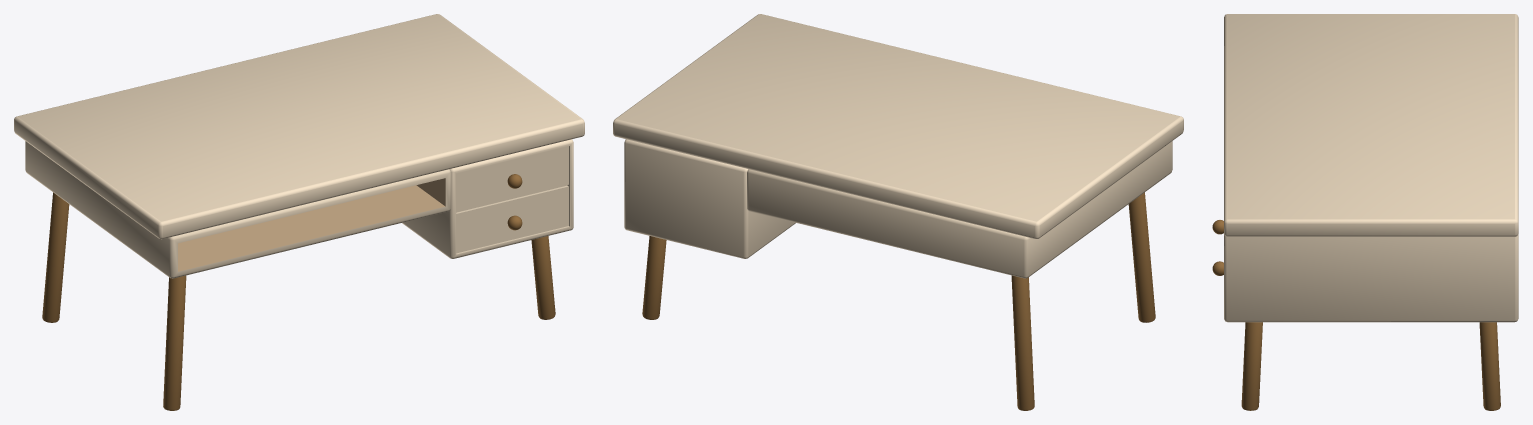
Rendered from Table.fbx.
3 renders of one model, left to right at view 1: azimuth 30°, elevation 25°; view 2: azimuth 150°, elevation 25°; view 3: azimuth 270°, elevation 25°, orthographic.
Visible parts, largest first — view 1: Table, Table.001, Table.002, Table.003, Table.004, Table.005; view 2: Table, Table.001, Table.002, Table.004, Table.003, Table.006; view 3: Table, Table.002, Table.006, Table.005.
Part boxes in pixels (box(x1,y1,x2,y2)): Table: box(14, 14, 584, 239); Table.001: box(25, 141, 450, 278); Table.002: box(402, 139, 573, 258); Table.003: box(163, 275, 186, 410); Table.004: box(42, 192, 69, 322); Table.005: box(531, 236, 555, 319); Table: box(613, 14, 1183, 238); Table.001: box(747, 141, 1172, 278); Table.002: box(624, 139, 795, 258); Table.004: box(1011, 275, 1034, 410); Table.003: box(1128, 192, 1155, 322); Table.006: box(642, 236, 666, 319); Table: box(1224, 14, 1518, 236); Table.002: box(1212, 220, 1518, 322); Table.006: box(1479, 322, 1500, 410); Table.005: box(1241, 322, 1262, 410).
Size of the model in its own units: 713 by 322 by 443.
